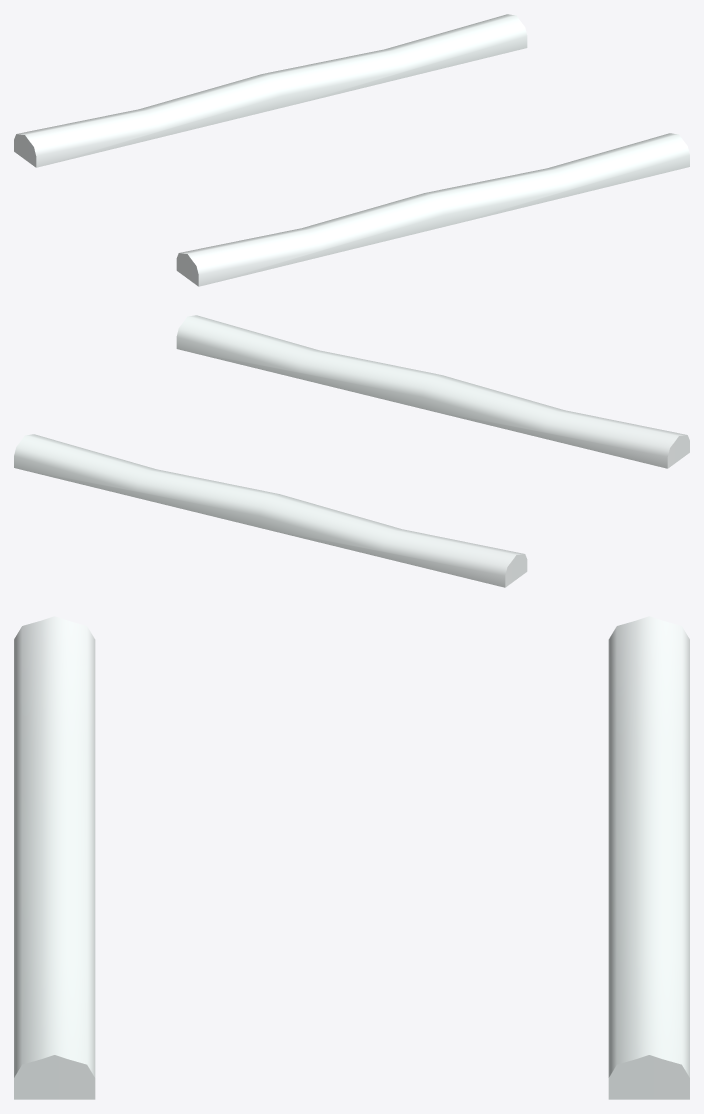
The model's file is SnowmobileTrackBarriers.glb.
3 renders of one model, top to bottom at view 1: azimuth 30°, elevation 25°; view 2: azimuth 150°, elevation 25°; view 3: azimuth 270°, elevation 25°, orthographic. The views are drawn at different scales.
Parts seen in each view (by area): view 1: SnowmobileTrackBarriers; view 2: SnowmobileTrackBarriers; view 3: SnowmobileTrackBarriers.
Boxes of the visible parts, box(x1,y1,x2,y2) form: SnowmobileTrackBarriers: box(14, 14, 689, 286); SnowmobileTrackBarriers: box(14, 315, 689, 587); SnowmobileTrackBarriers: box(14, 616, 689, 1099).
Size of the model in its own units: 8 by 0.3824 by 5.21.
1 material, 1 textured.
